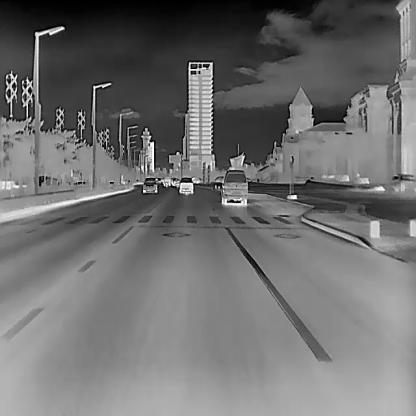car: (220, 168, 247, 204), (178, 176, 193, 194), (142, 177, 157, 194), (163, 175, 169, 186)
crosswalk: (47, 210, 295, 232)
